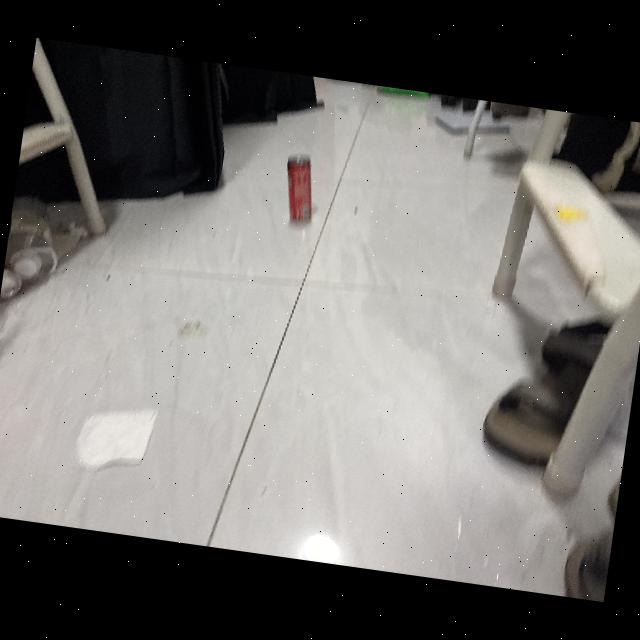Cola: (272, 141, 326, 231)
